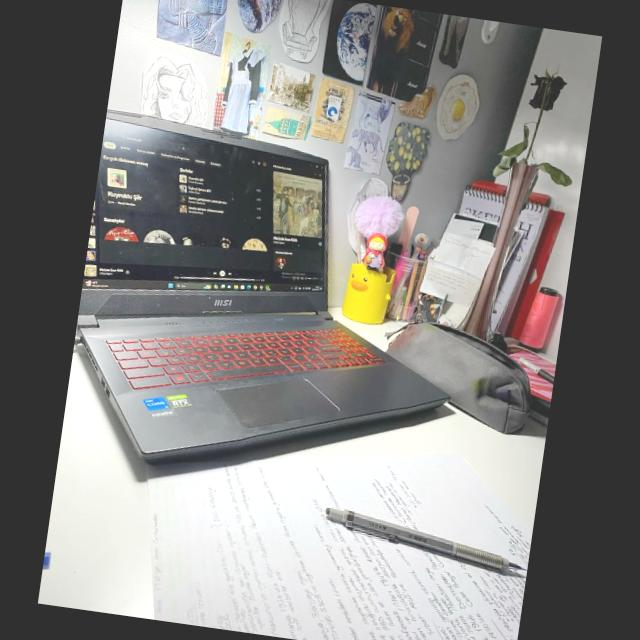laptop: (76, 111, 447, 461)
